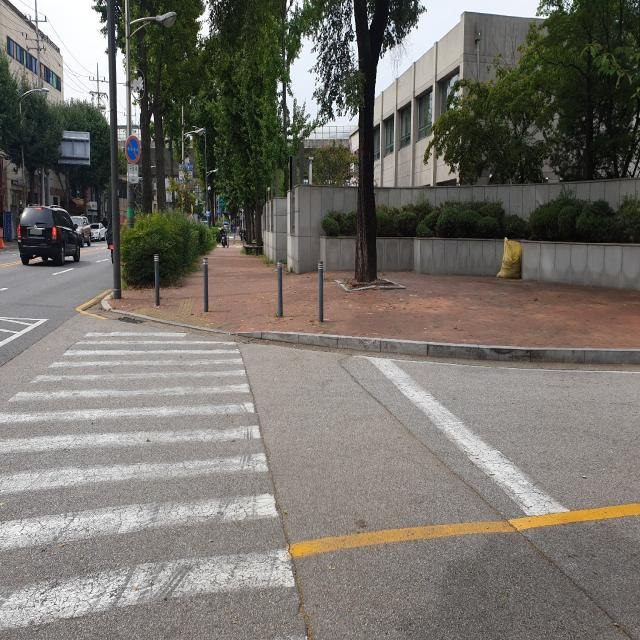횡단보도: (0, 323, 310, 640)
